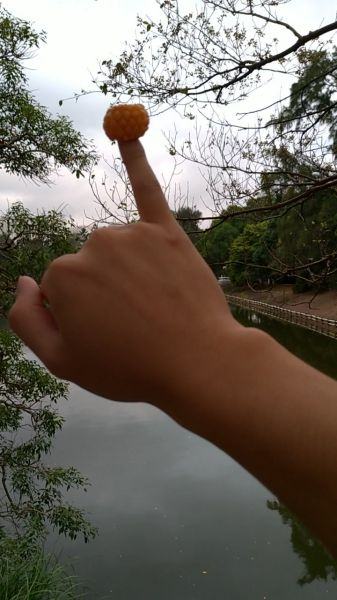eggs: (102, 103, 149, 142)
